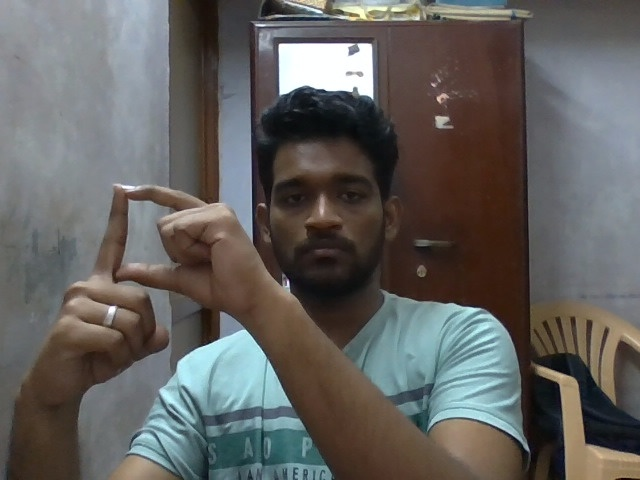D: (24, 176, 268, 402)
